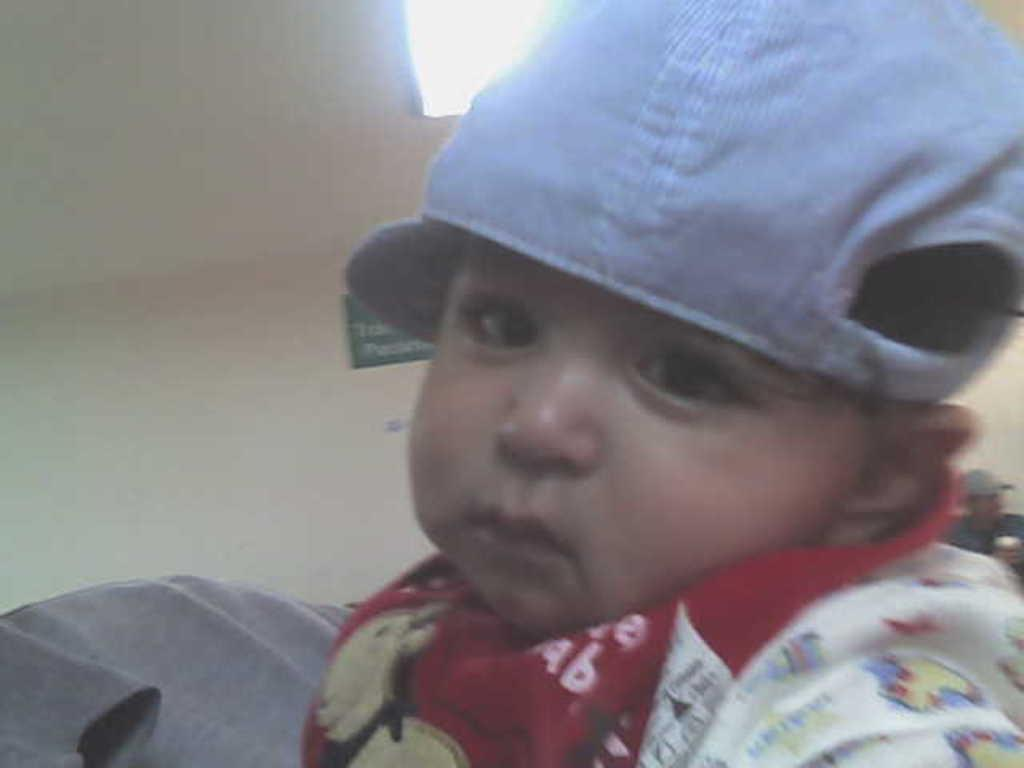Hat: (340, 0, 1022, 401)
